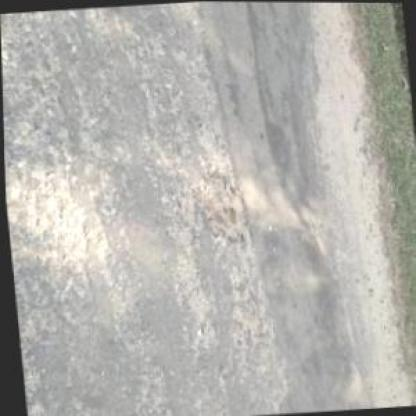pothole: (194, 169, 254, 248)
